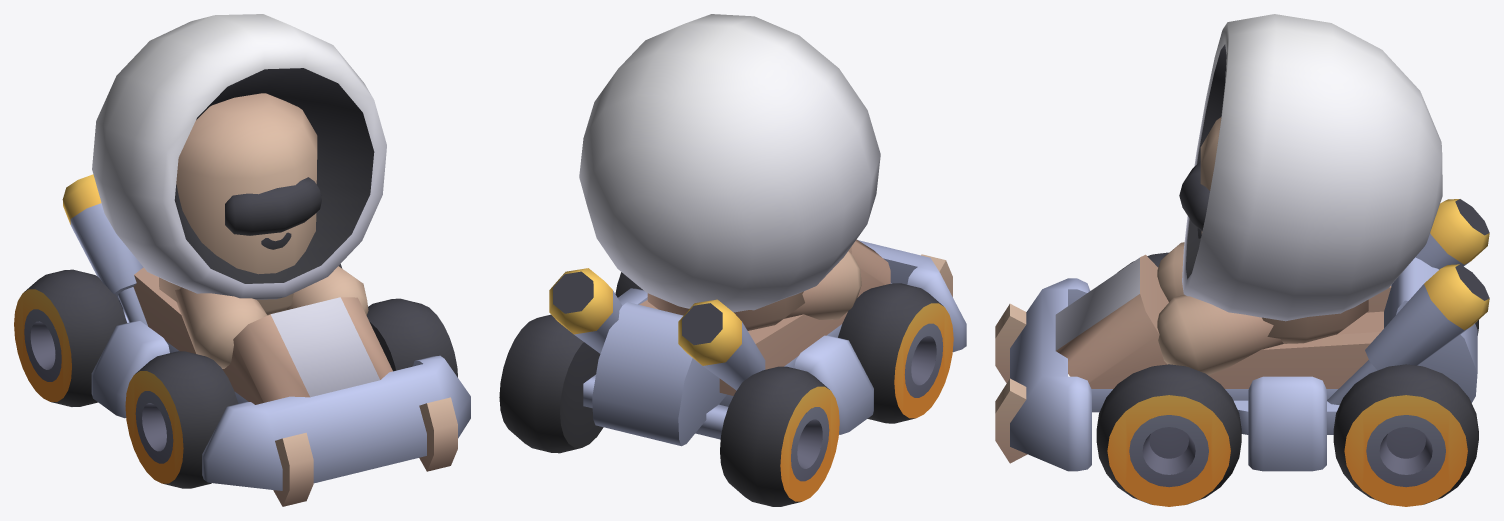
The model's file is kart_e.glb.
The picture shows the model from 3 angles, left to right: view 1: azimuth 30°, elevation 25°; view 2: azimuth 150°, elevation 25°; view 3: azimuth 270°, elevation 25°; orthographic projection. The views are drawn at different scales.
Parts seen in each view (by area): view 1: character, kart-oozi, wheel-back-right, wheel-front-right, wheel-front-left; view 2: character, kart-oozi, wheel-back-right, wheel-front-right, wheel-back-left; view 3: character, kart-oozi, wheel-front-left, wheel-back-left.
Part boxes in pixels (x1,y1,x2,y2): character: (92, 14, 386, 368); kart-oozi: (62, 174, 470, 506); wheel-back-right: (14, 269, 126, 406); wheel-front-right: (125, 351, 238, 488); wheel-front-left: (366, 298, 457, 377); character: (579, 14, 880, 330); kart-oozi: (549, 239, 966, 446); wheel-back-right: (720, 366, 839, 506); wheel-front-right: (838, 283, 953, 423); wheel-back-left: (499, 314, 603, 453); character: (1157, 14, 1442, 375); kart-oozi: (995, 199, 1489, 471); wheel-front-left: (1096, 364, 1241, 506); wheel-back-left: (1333, 364, 1478, 506).
Bounding box in the file's own units: 0.9743 × 1.33 × 1.43.
Materials: 1 (1 with a texture image).
